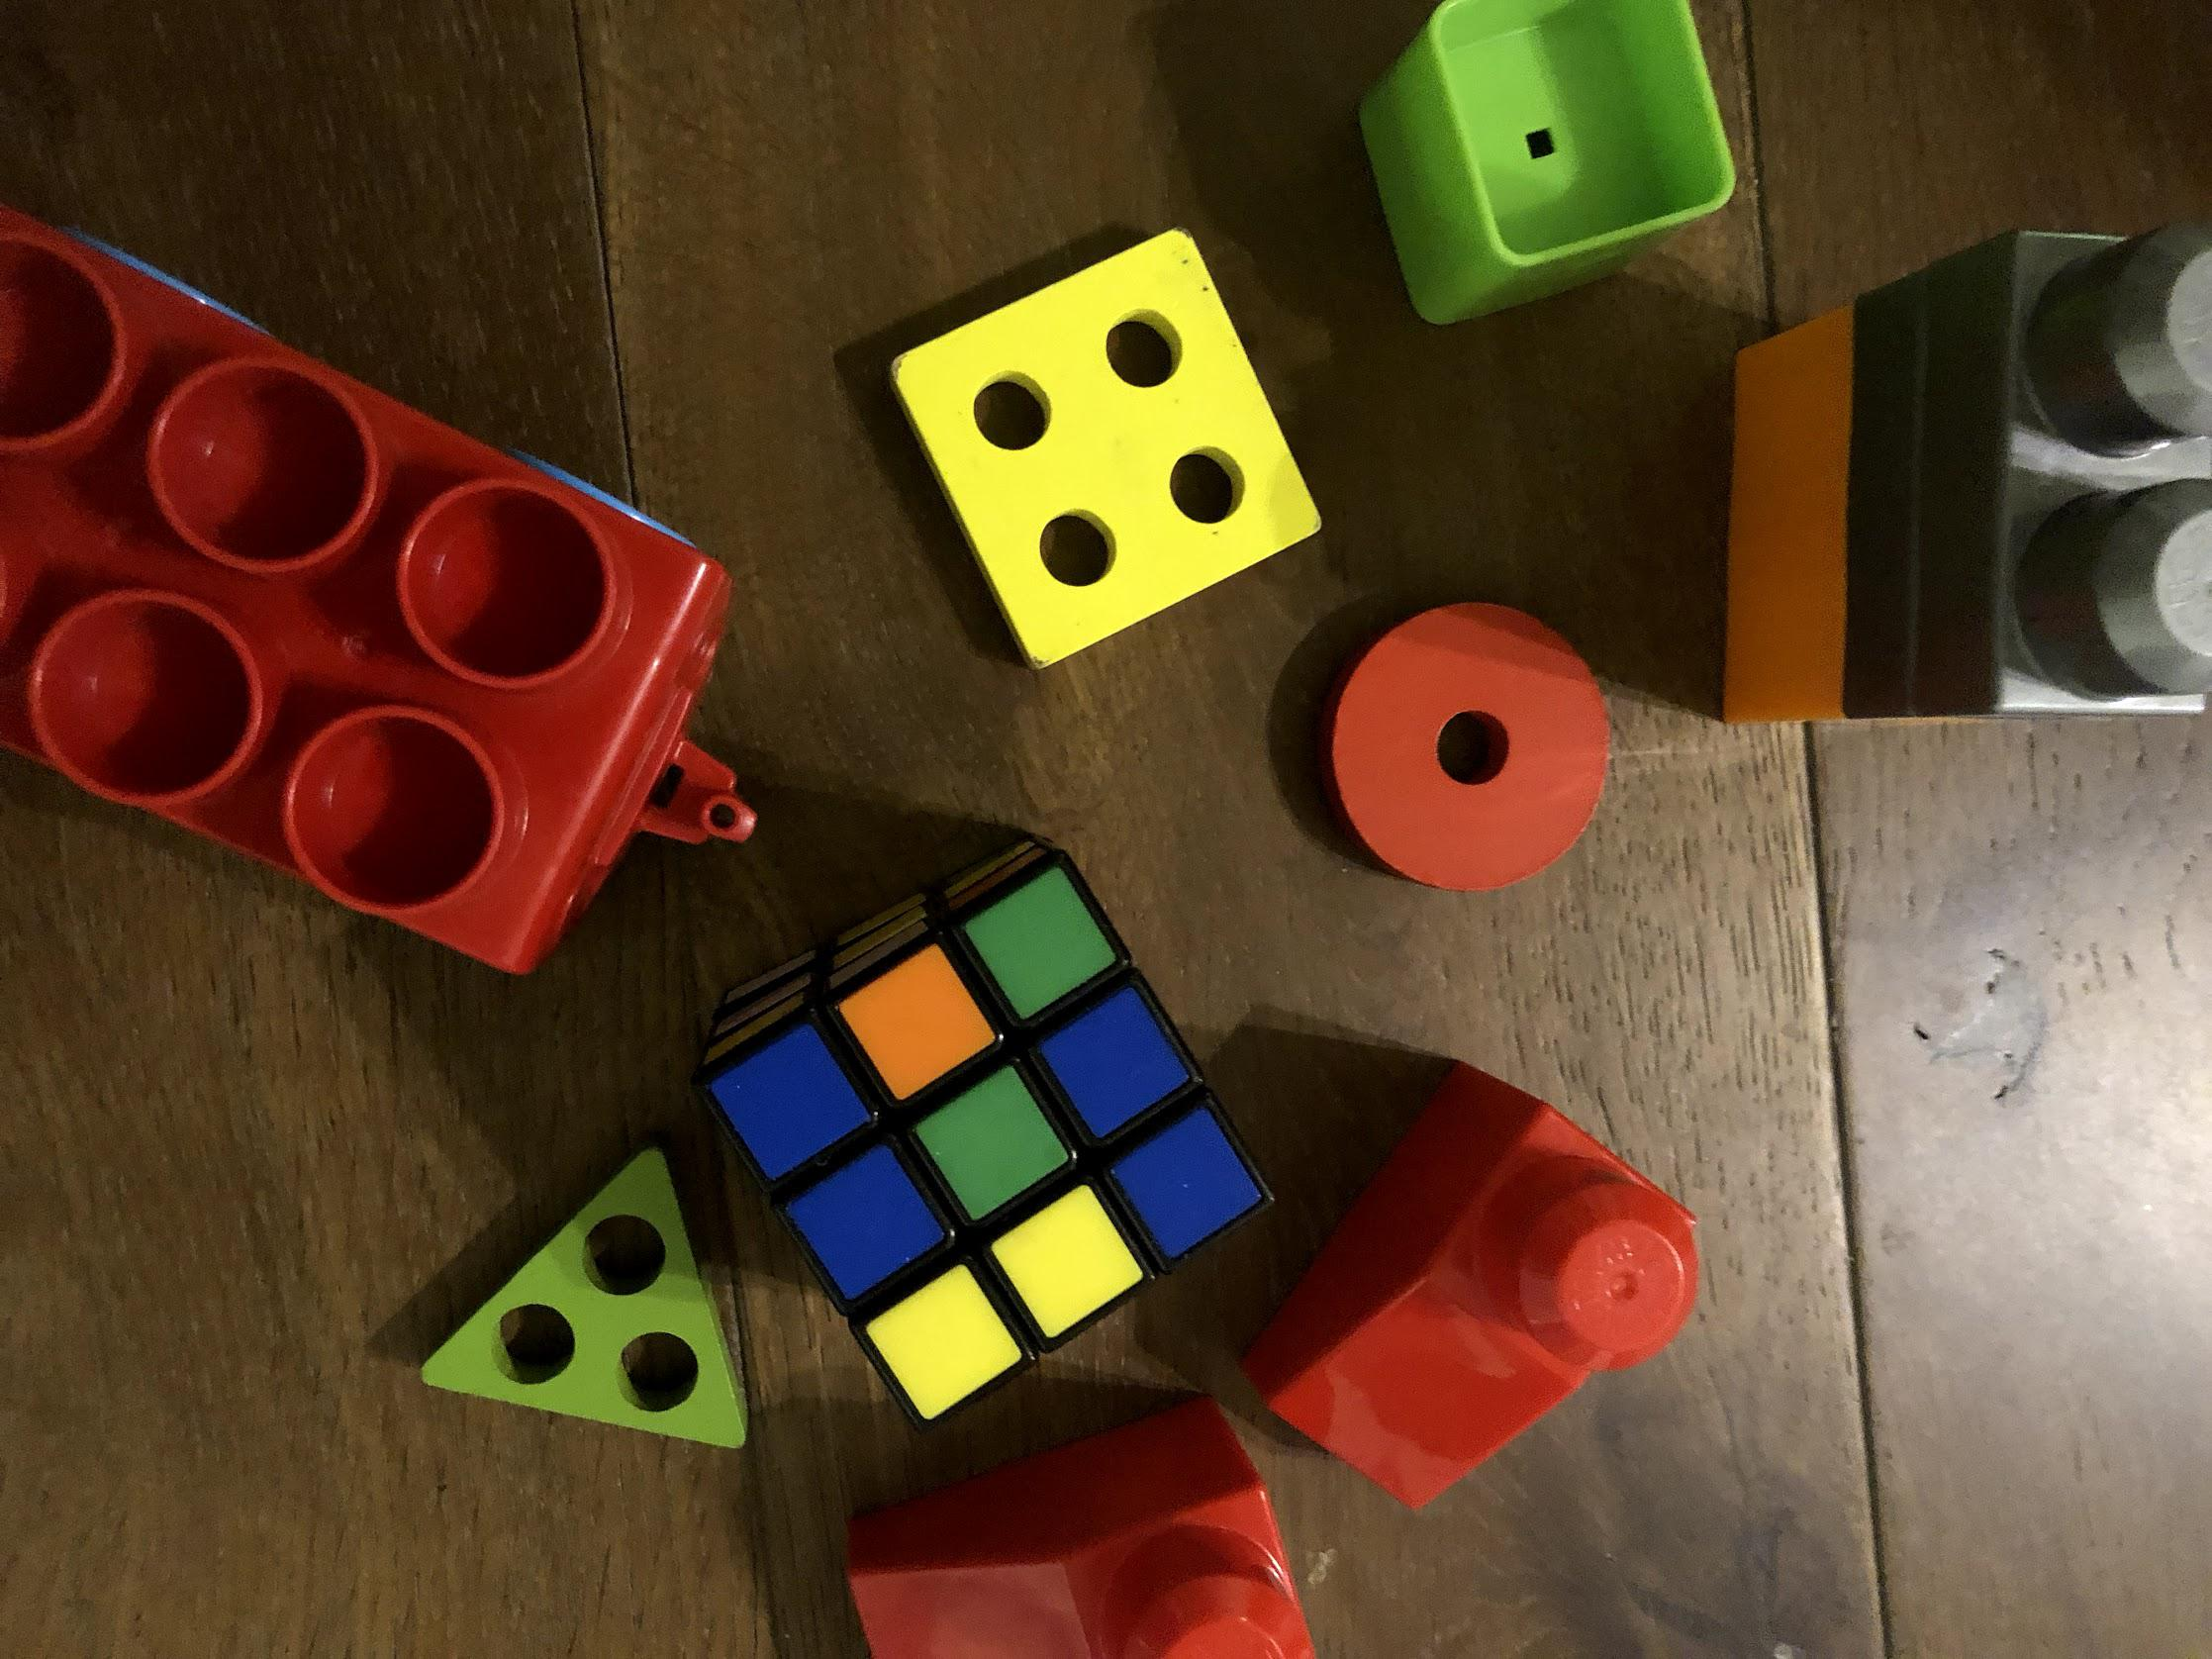Circle: (1324, 599, 1616, 897)
Square: (883, 230, 1322, 673)
Triangle: (406, 1143, 756, 1453)
